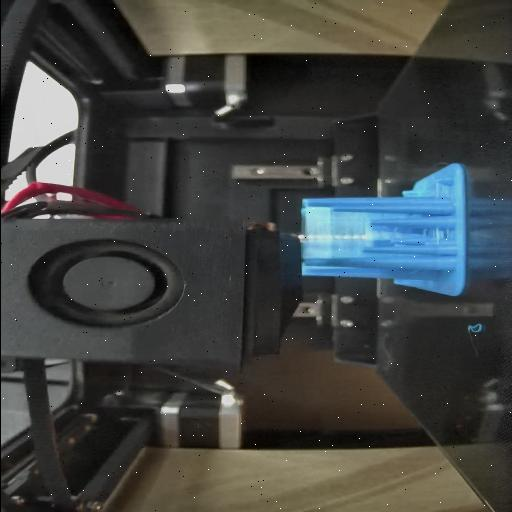stringing: (302, 208, 368, 256), (376, 226, 458, 246)
